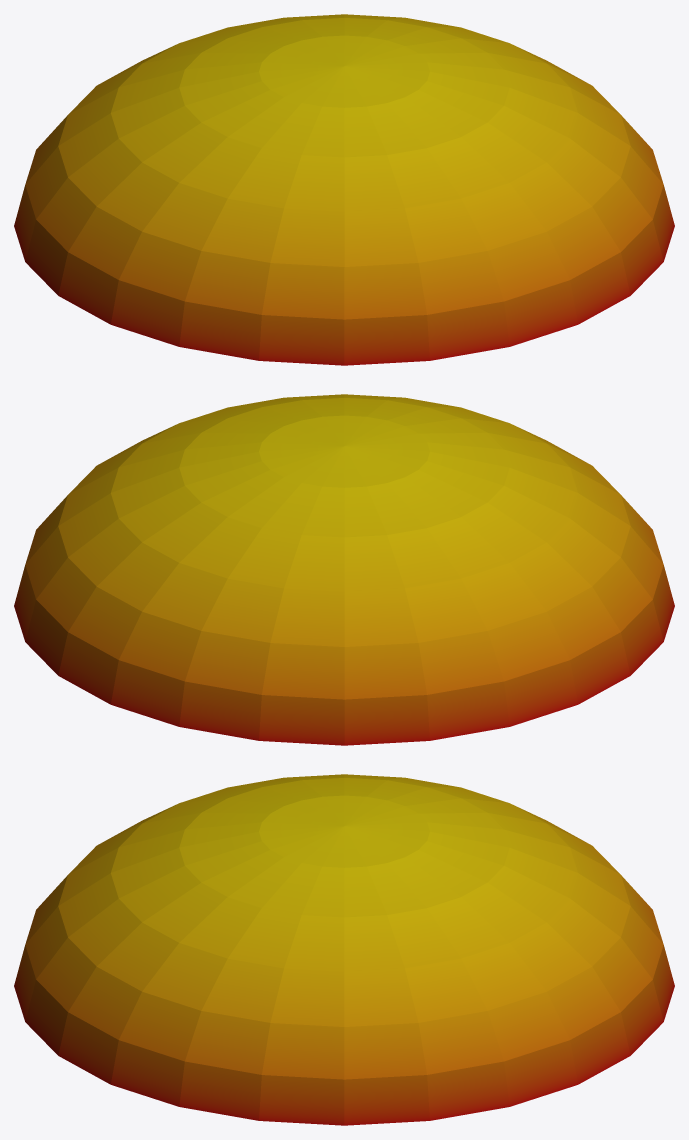
Rendered from dome.glb.
3 renders of one model, top to bottom at view 1: azimuth 30°, elevation 25°; view 2: azimuth 150°, elevation 25°; view 3: azimuth 270°, elevation 25°, orthographic.
Visible parts, largest first — view 1: dome; view 2: dome; view 3: dome.
Boxes of the visible parts, left/top/right/bottom form: dome: left=14, top=14, right=674, bottom=365; dome: left=14, top=394, right=674, bottom=745; dome: left=14, top=774, right=674, bottom=1125.
Size of what is drawn, in the model's own units: 6 by 1.6 by 6.
